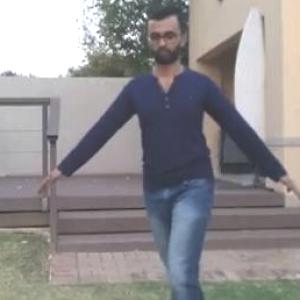land: (57, 12, 299, 299)
